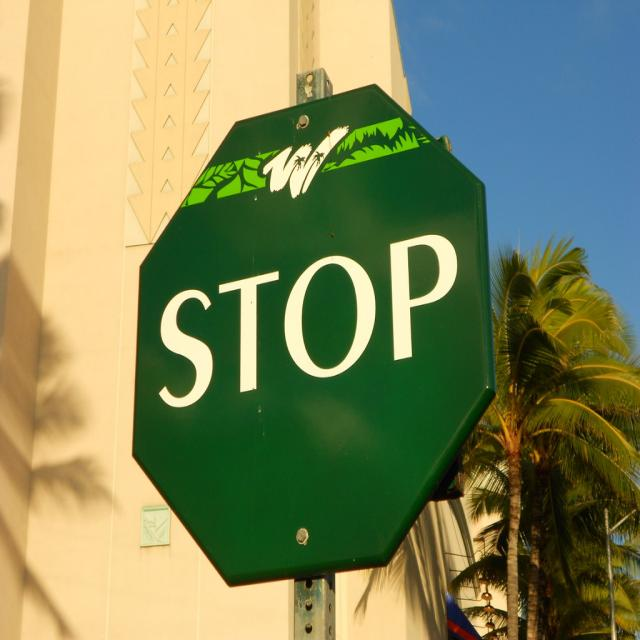Stop-sign: (130, 82, 498, 586)
